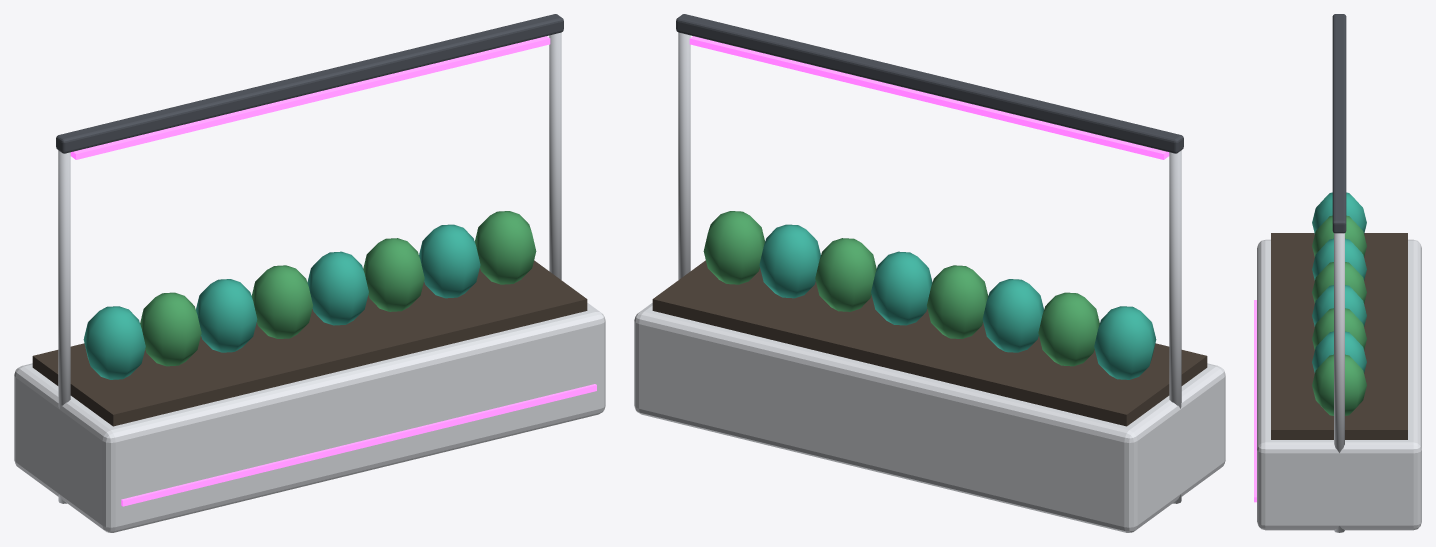
Rendered from hydroponic_bed_trough_long.glb.
3 views of the same model, side by side, from view 1: azimuth 30°, elevation 25°; view 2: azimuth 150°, elevation 25°; view 3: azimuth 270°, elevation 25° (orthographic). The views are drawn at different scales.
Parts seen in each view (by area): view 1: GD_hydroponic_bed_trough_long__m0, GD_hydroponic_bed_trough_long__m1, GD_hydroponic_bed_trough_long__m6, GD_hydroponic_bed_trough_long__m2, GD_hydroponic_bed_trough_long__m3, GD_hydroponic_bed_trough_long__m4, GD_hydroponic_bed_trough_long__m5; view 2: GD_hydroponic_bed_trough_long__m0, GD_hydroponic_bed_trough_long__m1, GD_hydroponic_bed_trough_long__m6, GD_hydroponic_bed_trough_long__m2, GD_hydroponic_bed_trough_long__m3, GD_hydroponic_bed_trough_long__m5, GD_hydroponic_bed_trough_long__m4; view 3: GD_hydroponic_bed_trough_long__m0, GD_hydroponic_bed_trough_long__m1, GD_hydroponic_bed_trough_long__m2, GD_hydroponic_bed_trough_long__m6, GD_hydroponic_bed_trough_long__m3, GD_hydroponic_bed_trough_long__m5, GD_hydroponic_bed_trough_long__m4.
Part boxes in pixels (x1=…): GD_hydroponic_bed_trough_long__m0: x1=14, y1=303, x2=605, y2=532; GD_hydroponic_bed_trough_long__m1: x1=32, y1=260, x2=587, y2=426; GD_hydroponic_bed_trough_long__m6: x1=83, y1=224, x2=480, y2=379; GD_hydroponic_bed_trough_long__m2: x1=140, y1=211, x2=536, y2=366; GD_hydroponic_bed_trough_long__m3: x1=56, y1=14, x2=563, y2=153; GD_hydroponic_bed_trough_long__m4: x1=70, y1=36, x2=596, y2=506; GD_hydroponic_bed_trough_long__m5: x1=58, y1=32, x2=561, y2=503; GD_hydroponic_bed_trough_long__m0: x1=634, y1=303, x2=1225, y2=532; GD_hydroponic_bed_trough_long__m1: x1=652, y1=260, x2=1207, y2=426; GD_hydroponic_bed_trough_long__m6: x1=759, y1=224, x2=1156, y2=379; GD_hydroponic_bed_trough_long__m2: x1=703, y1=211, x2=1099, y2=366; GD_hydroponic_bed_trough_long__m3: x1=676, y1=14, x2=1183, y2=153; GD_hydroponic_bed_trough_long__m5: x1=678, y1=32, x2=1181, y2=503; GD_hydroponic_bed_trough_long__m4: x1=689, y1=36, x2=1169, y2=159; GD_hydroponic_bed_trough_long__m0: x1=1257, y1=239, x2=1421, y2=530; GD_hydroponic_bed_trough_long__m1: x1=1271, y1=233, x2=1407, y2=439; GD_hydroponic_bed_trough_long__m2: x1=1312, y1=215, x2=1366, y2=415; GD_hydroponic_bed_trough_long__m6: x1=1312, y1=192, x2=1366, y2=373; GD_hydroponic_bed_trough_long__m3: x1=1332, y1=14, x2=1346, y2=233; GD_hydroponic_bed_trough_long__m5: x1=1334, y1=233, x2=1344, y2=532; GD_hydroponic_bed_trough_long__m4: x1=1254, y1=300, x2=1256, y2=502.
Size of the model in its own units: 1.8 by 1.25 by 0.611.
